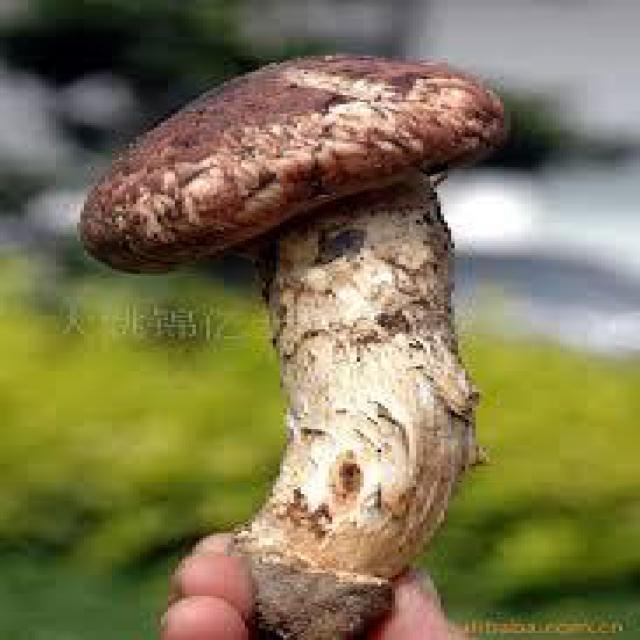Agaricus blazei Murill: (84, 42, 499, 636)
